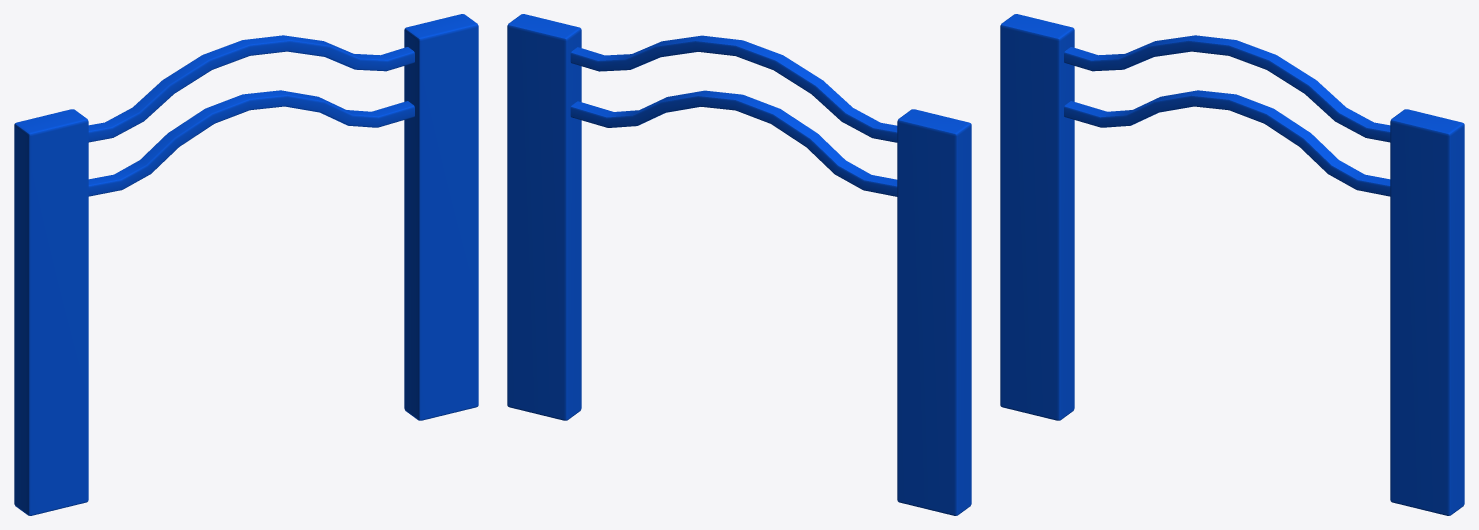
Rendered from FrontGate 1.fbx.
3 views of the same model, side by side, from view 1: azimuth 30°, elevation 25°; view 2: azimuth 150°, elevation 25°; view 3: azimuth 330°, elevation 25° (orthographic).
Parts seen in each view (by area): view 1: Pilar3, Pilar2, Sign; view 2: Pilar3, Pilar2, Sign; view 3: Pilar2, Pilar3, Sign.
Boxes of the visible parts, x1,y1,x2,y2 form: Pilar3: [14, 109, 88, 515]; Pilar2: [404, 14, 478, 420]; Sign: [88, 35, 414, 196]; Pilar3: [897, 109, 971, 515]; Pilar2: [507, 14, 581, 420]; Sign: [570, 35, 897, 196]; Pilar2: [1390, 109, 1464, 515]; Pilar3: [1000, 14, 1074, 420]; Sign: [1064, 35, 1390, 196].
Size of the model in its own units: 7.41 by 6.51 by 0.4608.
